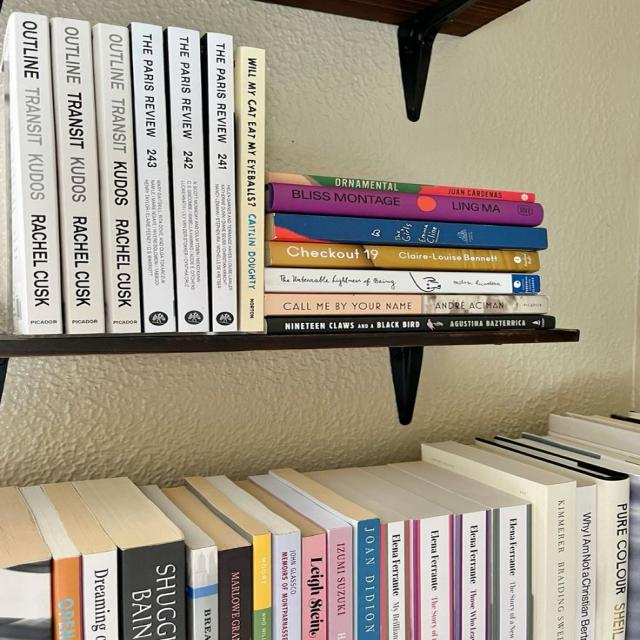book: (4, 12, 62, 335), (50, 18, 104, 333), (93, 23, 140, 333), (130, 23, 175, 332), (167, 28, 207, 331), (275, 184, 540, 226), (272, 213, 547, 250), (203, 34, 237, 331), (266, 241, 539, 273), (235, 46, 264, 331), (267, 174, 535, 204), (265, 268, 539, 295), (265, 294, 549, 316), (266, 314, 554, 334)
